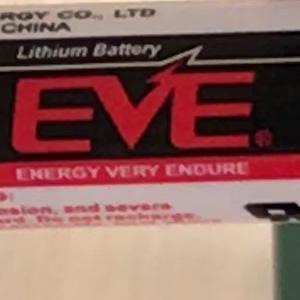keyword: (8, 38, 91, 68)
